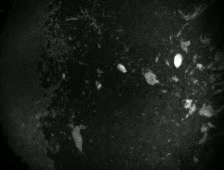corn: (172, 51, 184, 70), (115, 62, 128, 75), (93, 78, 103, 90), (60, 70, 67, 80)
